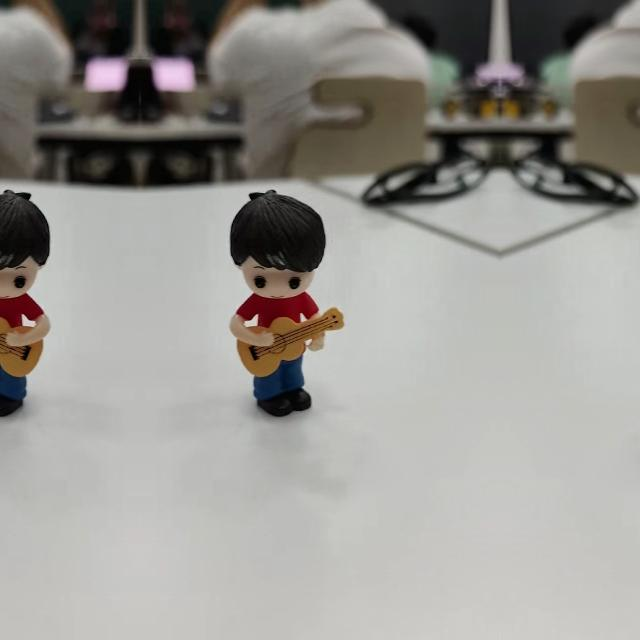man cloth: (232, 295, 326, 325), (0, 295, 48, 325)
man head: (230, 187, 326, 297), (0, 187, 49, 297)
trousers: (252, 354, 312, 418), (0, 353, 28, 418)
